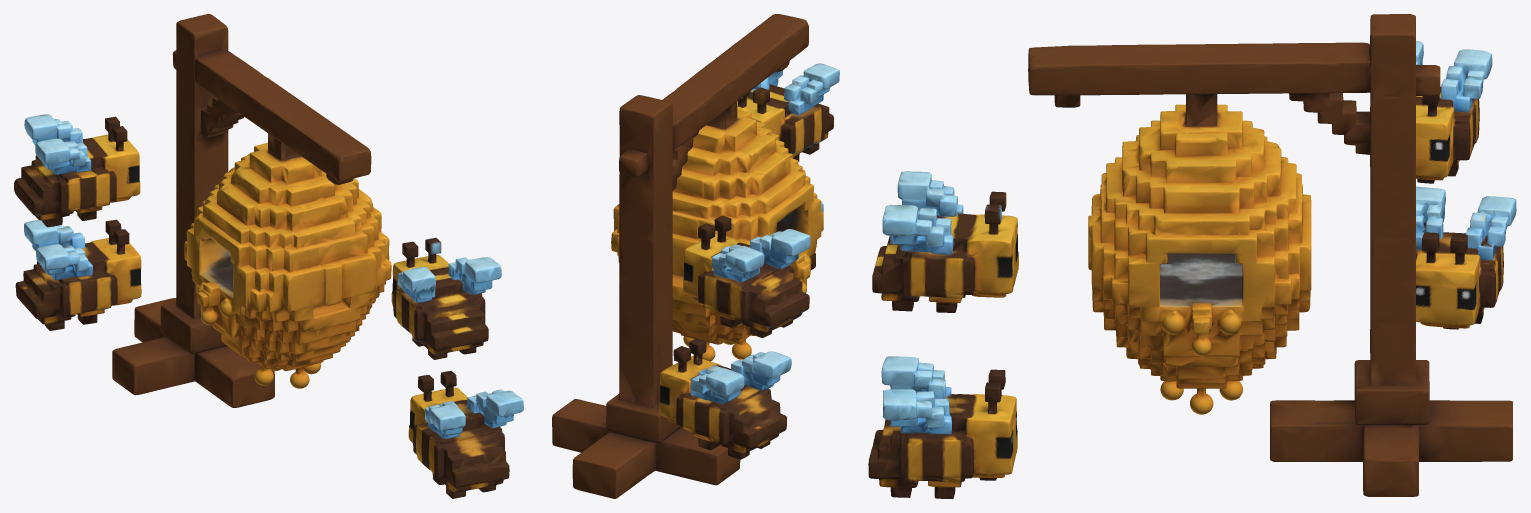
File: beehive.glb
3 views of the same model, side by side, from view 1: azimuth 30°, elevation 25°; view 2: azimuth 150°, elevation 25°; view 3: azimuth 270°, elevation 25° (orthographic). The views are drawn at different scales.
Parts seen in each view (by area): view 1: tripo_node_29b96f95-694a-47da-83d8-ad9e02f2db08; view 2: tripo_node_29b96f95-694a-47da-83d8-ad9e02f2db08; view 3: tripo_node_29b96f95-694a-47da-83d8-ad9e02f2db08.
Part boxes in pixels (<box>): tripo_node_29b96f95-694a-47da-83d8-ad9e02f2db08: <box>14,14,523,498</box>; tripo_node_29b96f95-694a-47da-83d8-ad9e02f2db08: <box>552,14,839,498</box>; tripo_node_29b96f95-694a-47da-83d8-ad9e02f2db08: <box>868,14,1516,498</box>.
Bounding box in the file's own units: 0.6134 × 0.724 × 1.
1 material, 1 textured.
